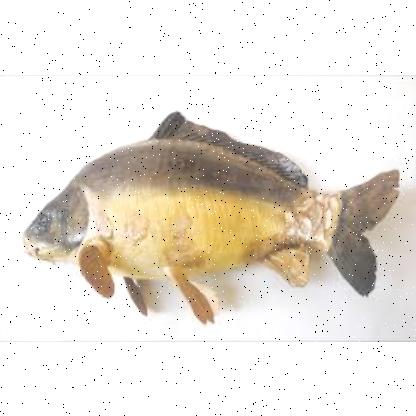ikan-mas: (26, 120, 394, 294)
